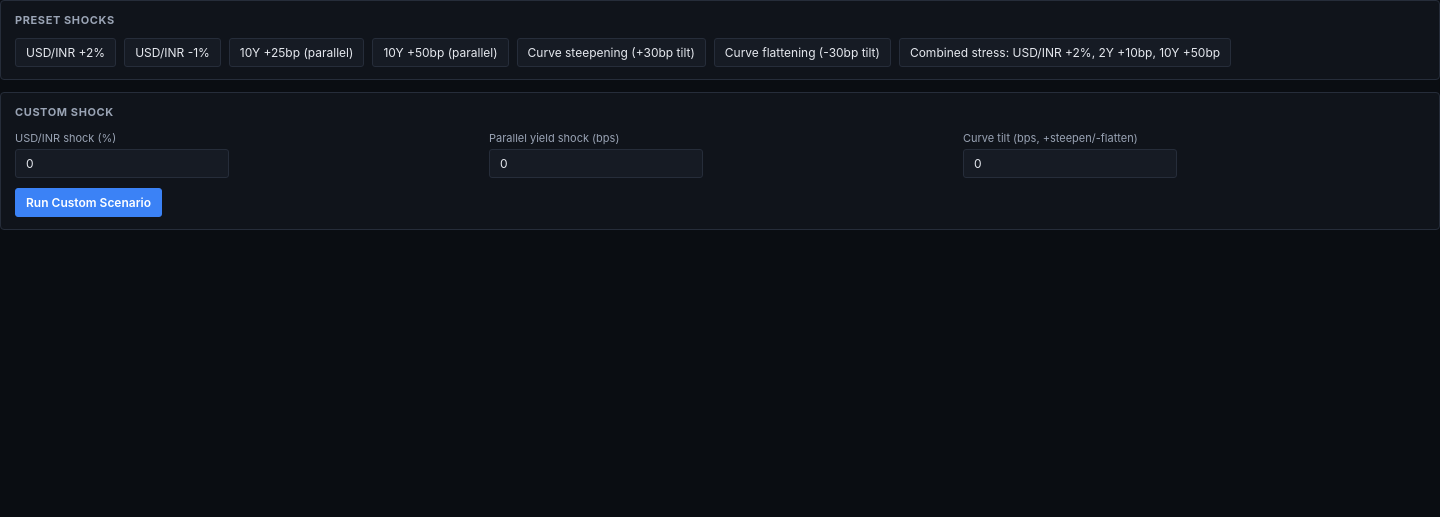
Scenario page › submits a preset scenario and displays the audited result
The width and height of the screenshot is (1440, 517).
Click the button "USD/INR +2%": (66, 53) [15,38,116,67]
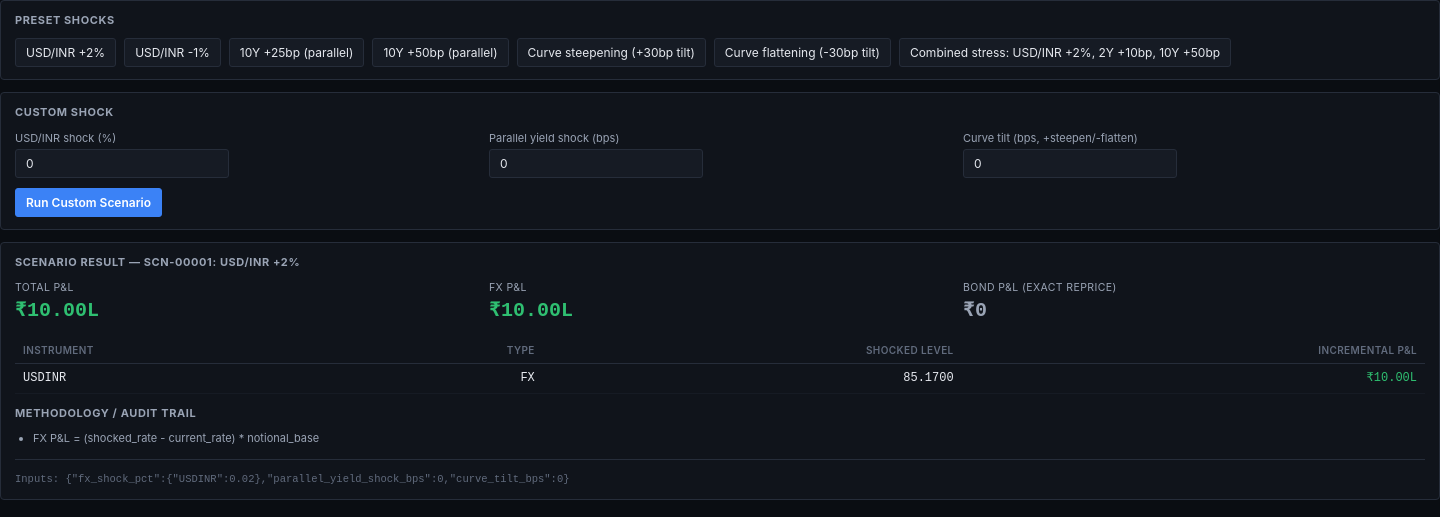
Now the text "Scenario Result — SCN-00001: USD/INR +2%" is shown, box [15,255,300,271]
Now the list item "FX P&L = (shocked_rate - current_rate) * notional_base" is shown, box [33,431,319,445]
